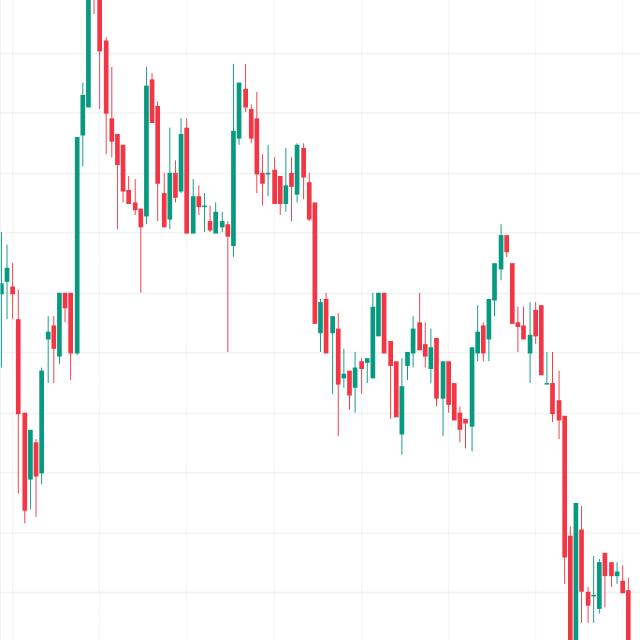Triple-Bottom: (308, 275, 486, 457)
